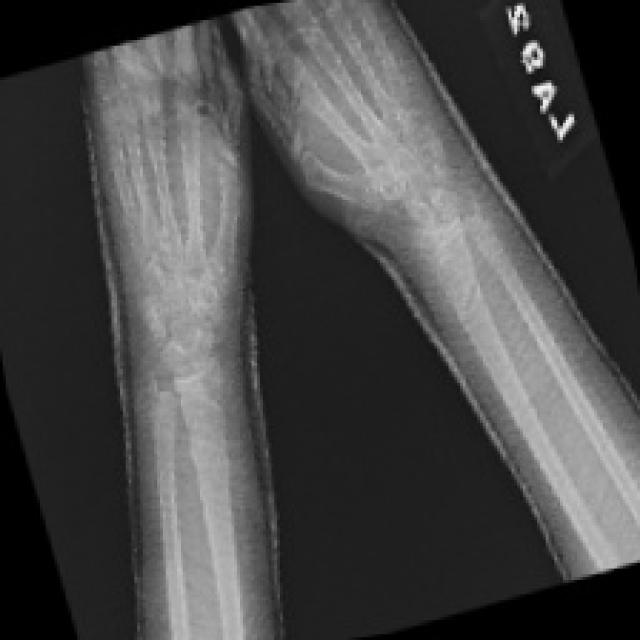fracture: (436, 265, 498, 332)
